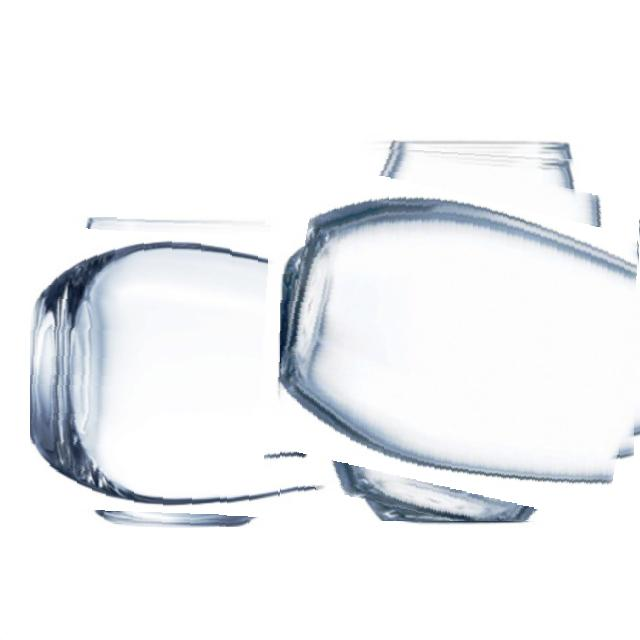recyclable: (280, 142, 640, 521), (30, 217, 340, 527)
